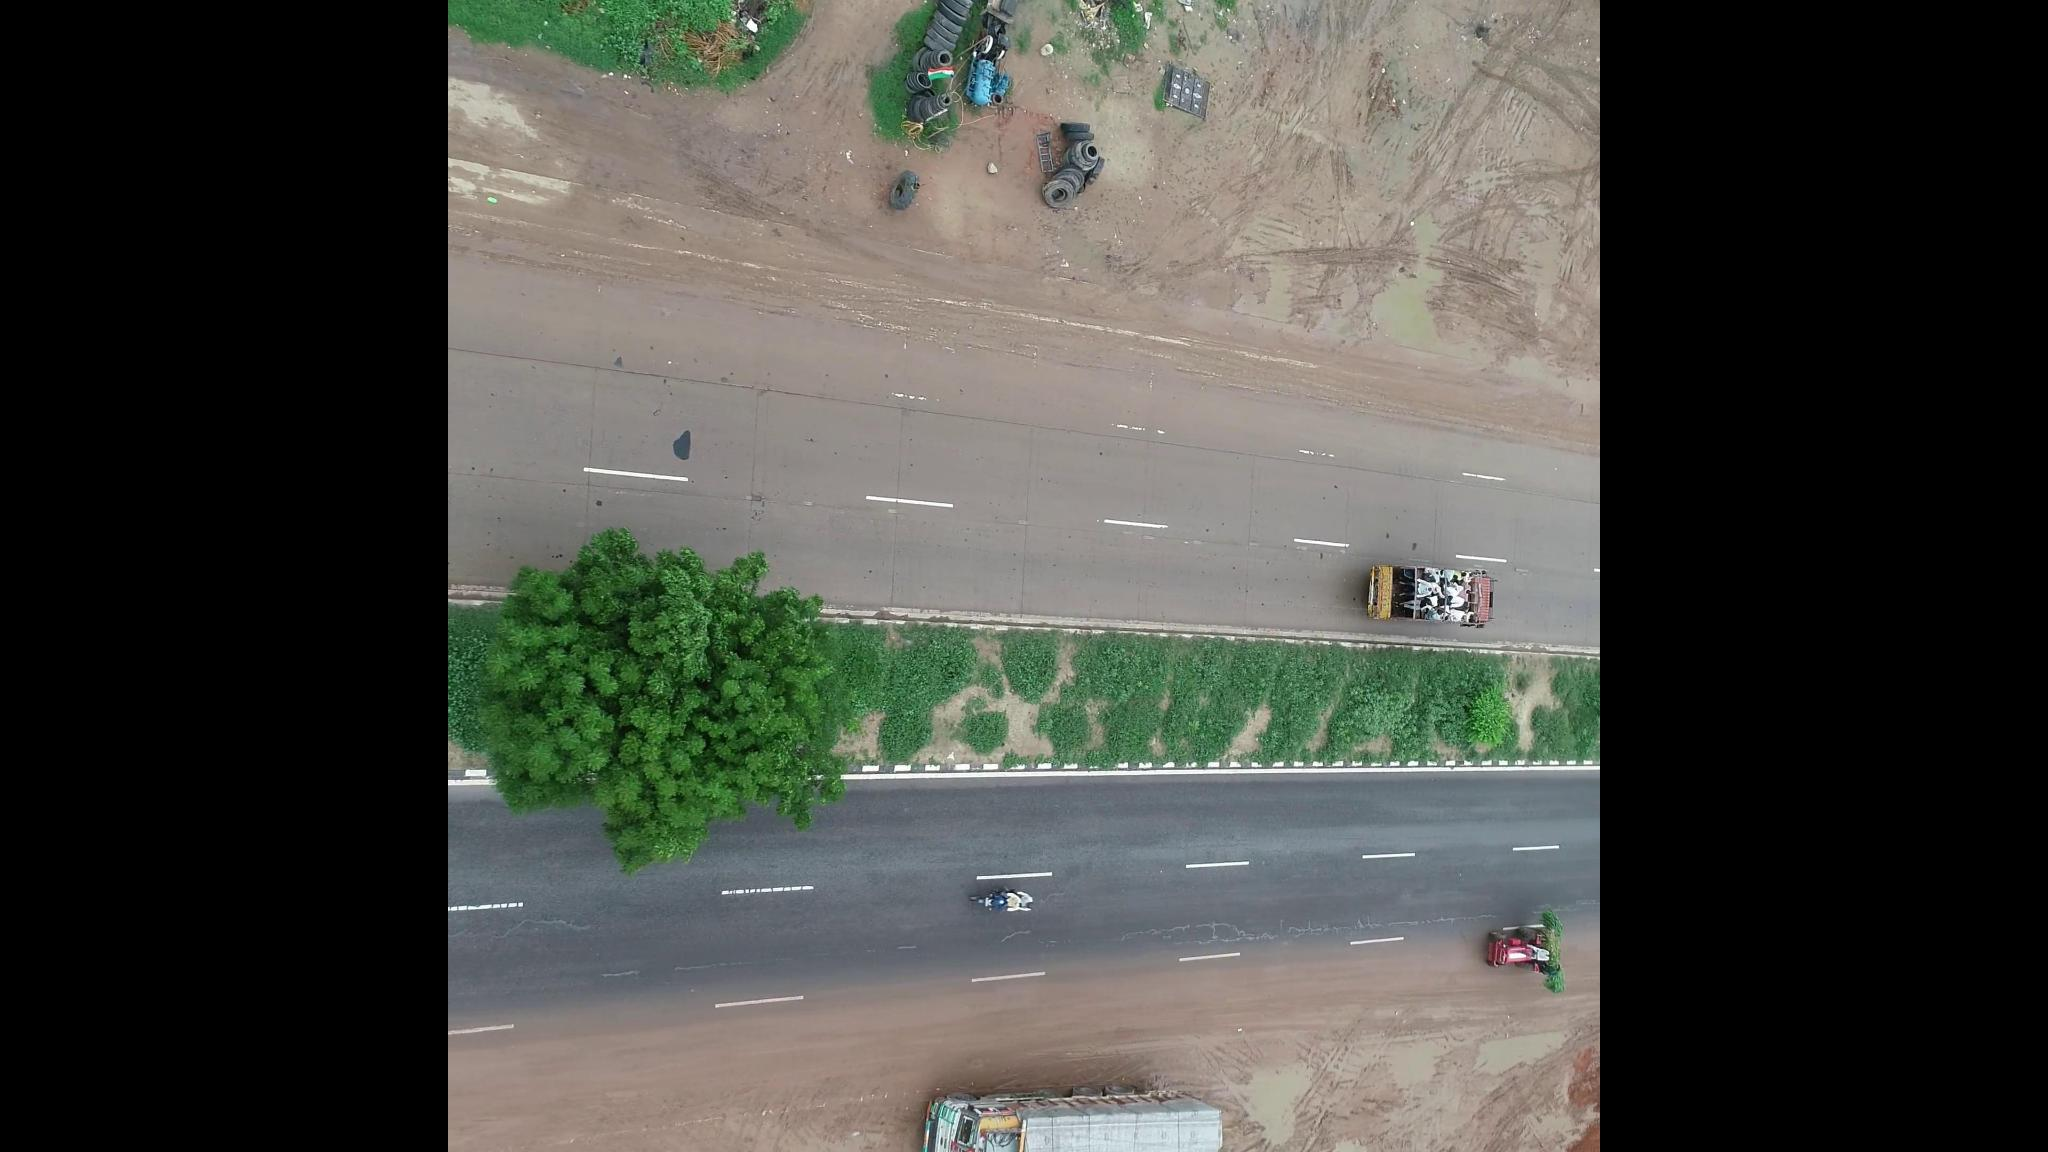Muddy_road: (452, 990, 921, 1152), (1218, 948, 1483, 1082)
